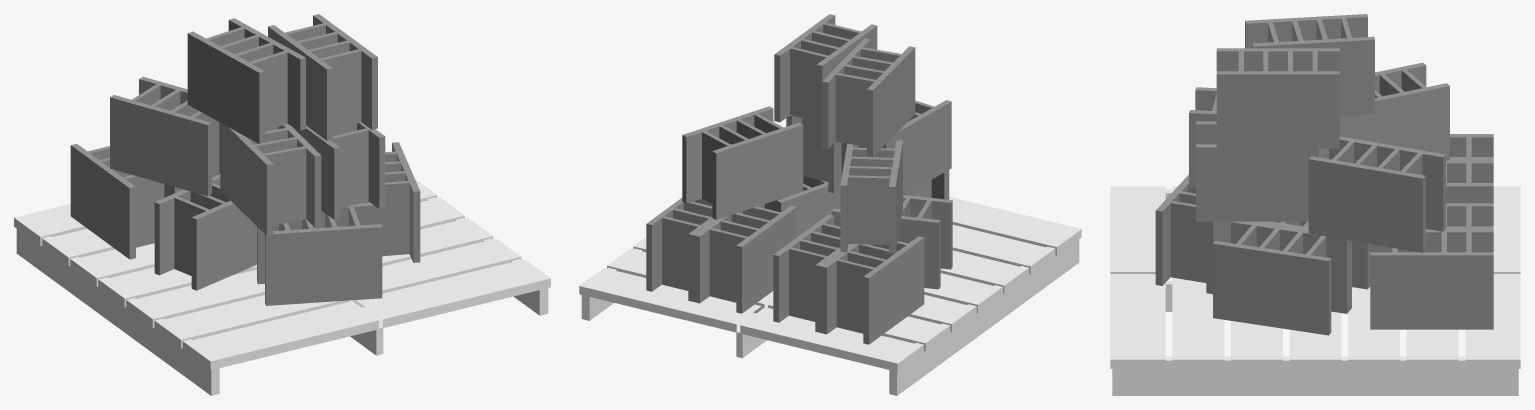
Rendered from WoodenPlank&Break3_3.fbx.
3 renders of one model, left to right at view 1: azimuth 30°, elevation 25°; view 2: azimuth 150°, elevation 25°; view 3: azimuth 270°, elevation 25°, orthographic. The views are drawn at different scales.
Parts seen in each view (by area): view 1: Cube.008; view 2: Cube.008; view 3: Cube.008.
Part boxes in pixels (x1=…): Cube.008: x1=14, y1=14, x2=550, y2=395; Cube.008: x1=579, y1=14, x2=1081, y2=395; Cube.008: x1=1110, y1=14, x2=1520, y2=395.
Size of the model in its own units: 200 by 140 by 200.
